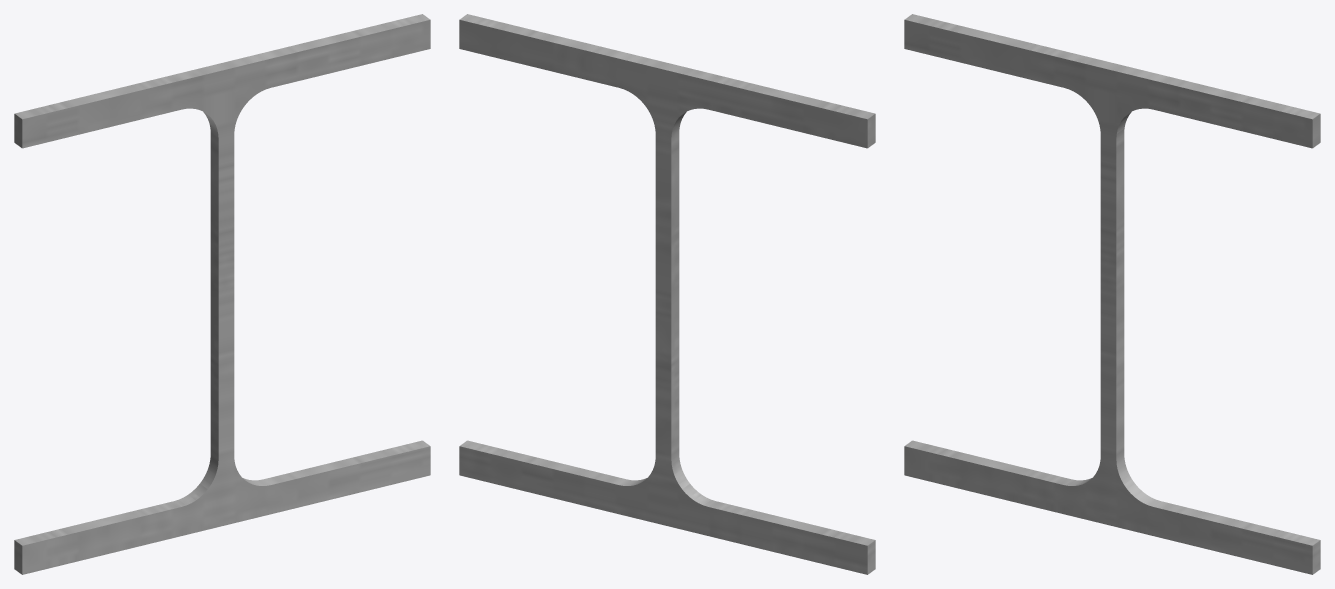
The model's file is HEB320.glb.
The picture shows the model from 3 angles, left to right: view 1: azimuth 30°, elevation 25°; view 2: azimuth 150°, elevation 25°; view 3: azimuth 330°, elevation 25°; orthographic projection.
Bounding box in the file's own units: 30 × 32 × 1.
Materials: 1 (1 with a texture image).
